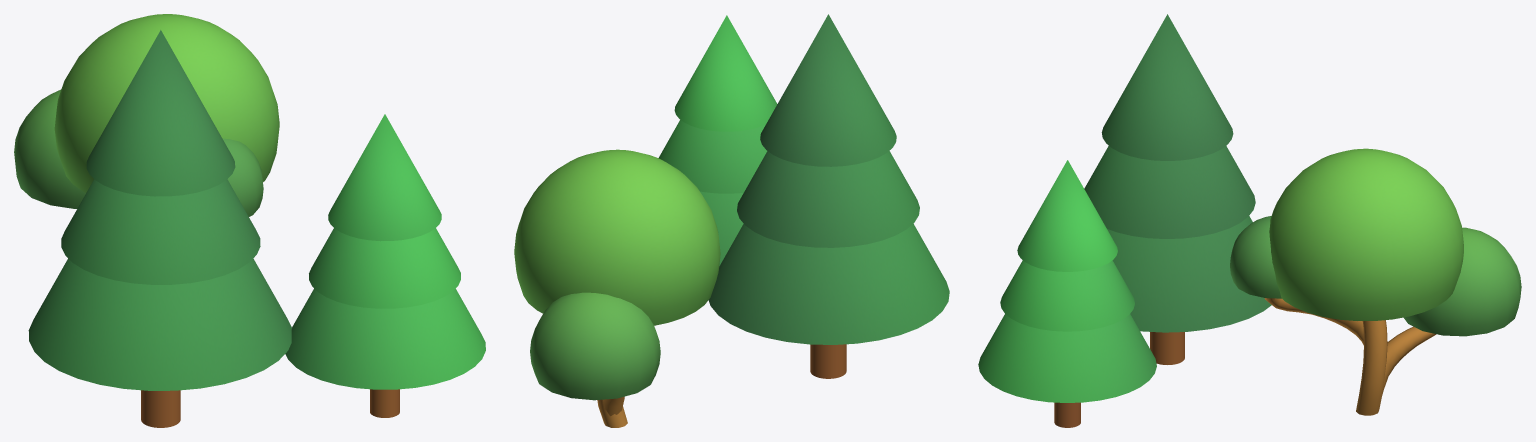
File: tree.fbx
3 views of the same model, side by side, from view 1: azimuth 30°, elevation 25°; view 2: azimuth 150°, elevation 25°; view 3: azimuth 270°, elevation 25° (orthographic). The views are drawn at different scales.
Parts seen in each view (by area): view 1: Tree-01.007, Tree-01.008, Tree-02.003; view 2: Tree-01.007, Tree-02.003, Tree-01.008; view 3: Tree-02.003, Tree-01.007, Tree-01.008.
Part boxes in pixels (bbox=[...]): Tree-01.007: bbox=[28, 30, 291, 427]; Tree-01.008: bbox=[285, 114, 485, 417]; Tree-02.003: bbox=[14, 14, 279, 216]; Tree-01.007: bbox=[708, 14, 949, 378]; Tree-02.003: bbox=[514, 149, 720, 427]; Tree-01.008: bbox=[658, 15, 777, 265]; Tree-02.003: bbox=[1230, 148, 1521, 415]; Tree-01.007: bbox=[1084, 14, 1271, 364]; Tree-01.008: bbox=[978, 160, 1156, 427].
Bounding box in the file's own units: 701 × 710 × 1010.
1 material, 1 textured.
